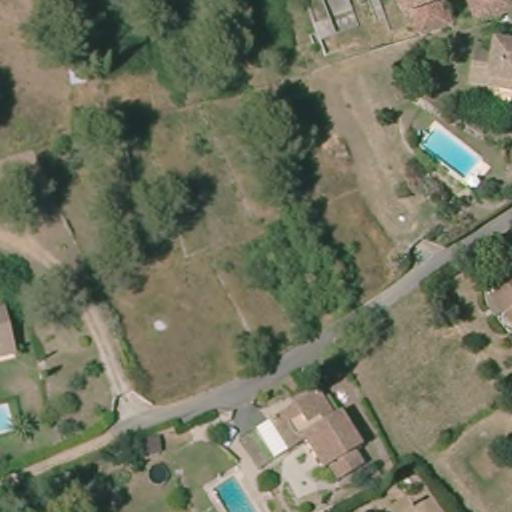pool: (417, 122, 483, 179), (209, 473, 260, 511), (0, 399, 19, 440)
